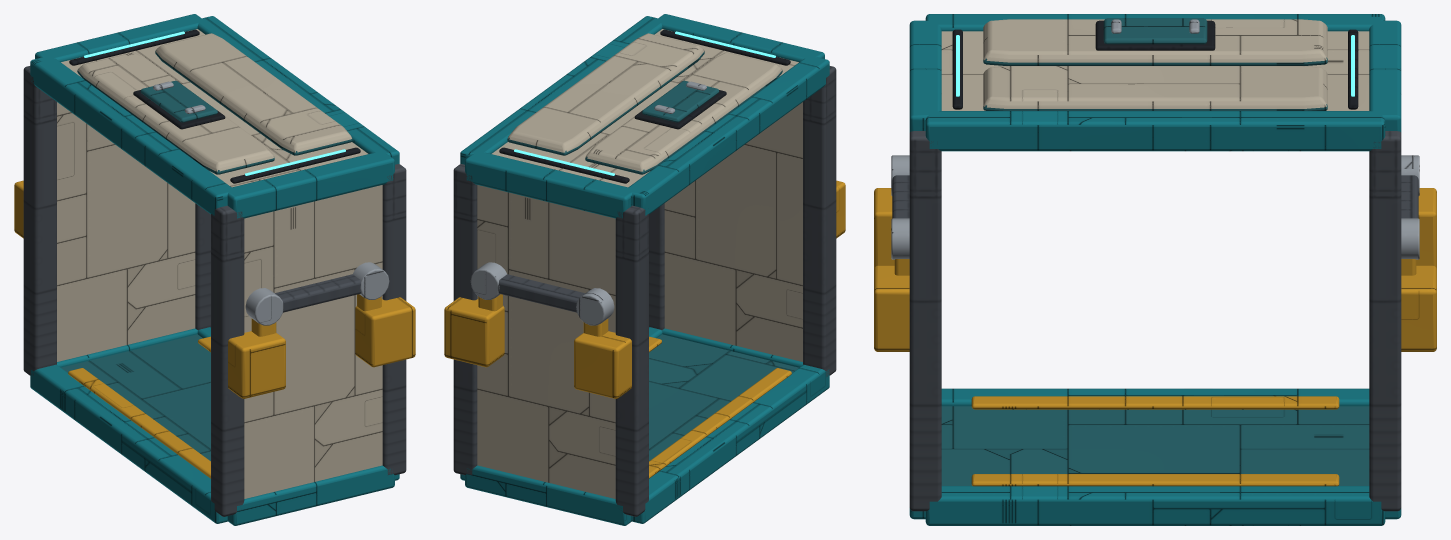
The model's file is docking_collar_lod0.glb.
3 views of the same model, side by side, from view 1: azimuth 30°, elevation 25°; view 2: azimuth 150°, elevation 25°; view 3: azimuth 270°, elevation 25° (orthographic). The views are drawn at different scales.
Parts seen in each view (by area): view 1: LOD0_Hull, LOD0_Livery, LOD0_Mechanical, LOD0_Armor, LOD0_Warning, LOD0_BrushedMetal, LOD0_MechanicalDark, LOD0_Lights_Cyan; view 2: LOD0_Hull, LOD0_Livery, LOD0_Mechanical, LOD0_Armor, LOD0_Warning, LOD0_BrushedMetal, LOD0_MechanicalDark, LOD0_Lights_Cyan; view 3: LOD0_Livery, LOD0_Armor, LOD0_Hull, LOD0_Mechanical, LOD0_Warning, LOD0_BrushedMetal, LOD0_MechanicalDark.
Part boxes in pixels (<box>): LOD0_Hull: <box>57,29,382,498</box>; LOD0_Livery: <box>30,14,399,525</box>; LOD0_Mechanical: <box>23,66,406,516</box>; LOD0_Armor: <box>61,50,352,460</box>; LOD0_Warning: <box>14,180,415,478</box>; LOD0_BrushedMetal: <box>153,81,389,325</box>; LOD0_MechanicalDark: <box>69,29,360,183</box>; LOD0_Lights_Cyan: <box>84,31,345,175</box>; LOD0_Hull: <box>477,29,802,498</box>; LOD0_Livery: <box>460,14,829,525</box>; LOD0_Mechanical: <box>453,66,836,516</box>; LOD0_Armor: <box>507,51,798,460</box>; LOD0_Warning: <box>444,180,845,478</box>; LOD0_BrushedMetal: <box>470,81,706,325</box>; LOD0_MechanicalDark: <box>499,29,790,183</box>; LOD0_Lights_Cyan: <box>514,31,775,175</box>; LOD0_Livery: <box>909,14,1401,525</box>; LOD0_Armor: <box>941,18,1369,485</box>; LOD0_Hull: <box>941,19,1369,110</box>; LOD0_Mechanical: <box>892,131,1418,511</box>; LOD0_Warning: <box>874,188,1436,486</box>; LOD0_BrushedMetal: <box>891,19,1419,259</box>; LOD0_MechanicalDark: <box>952,20,1358,109</box>.
Size of the model in its own units: 2.28 by 4.1 by 4.9.
8 materials, 7 textured.
